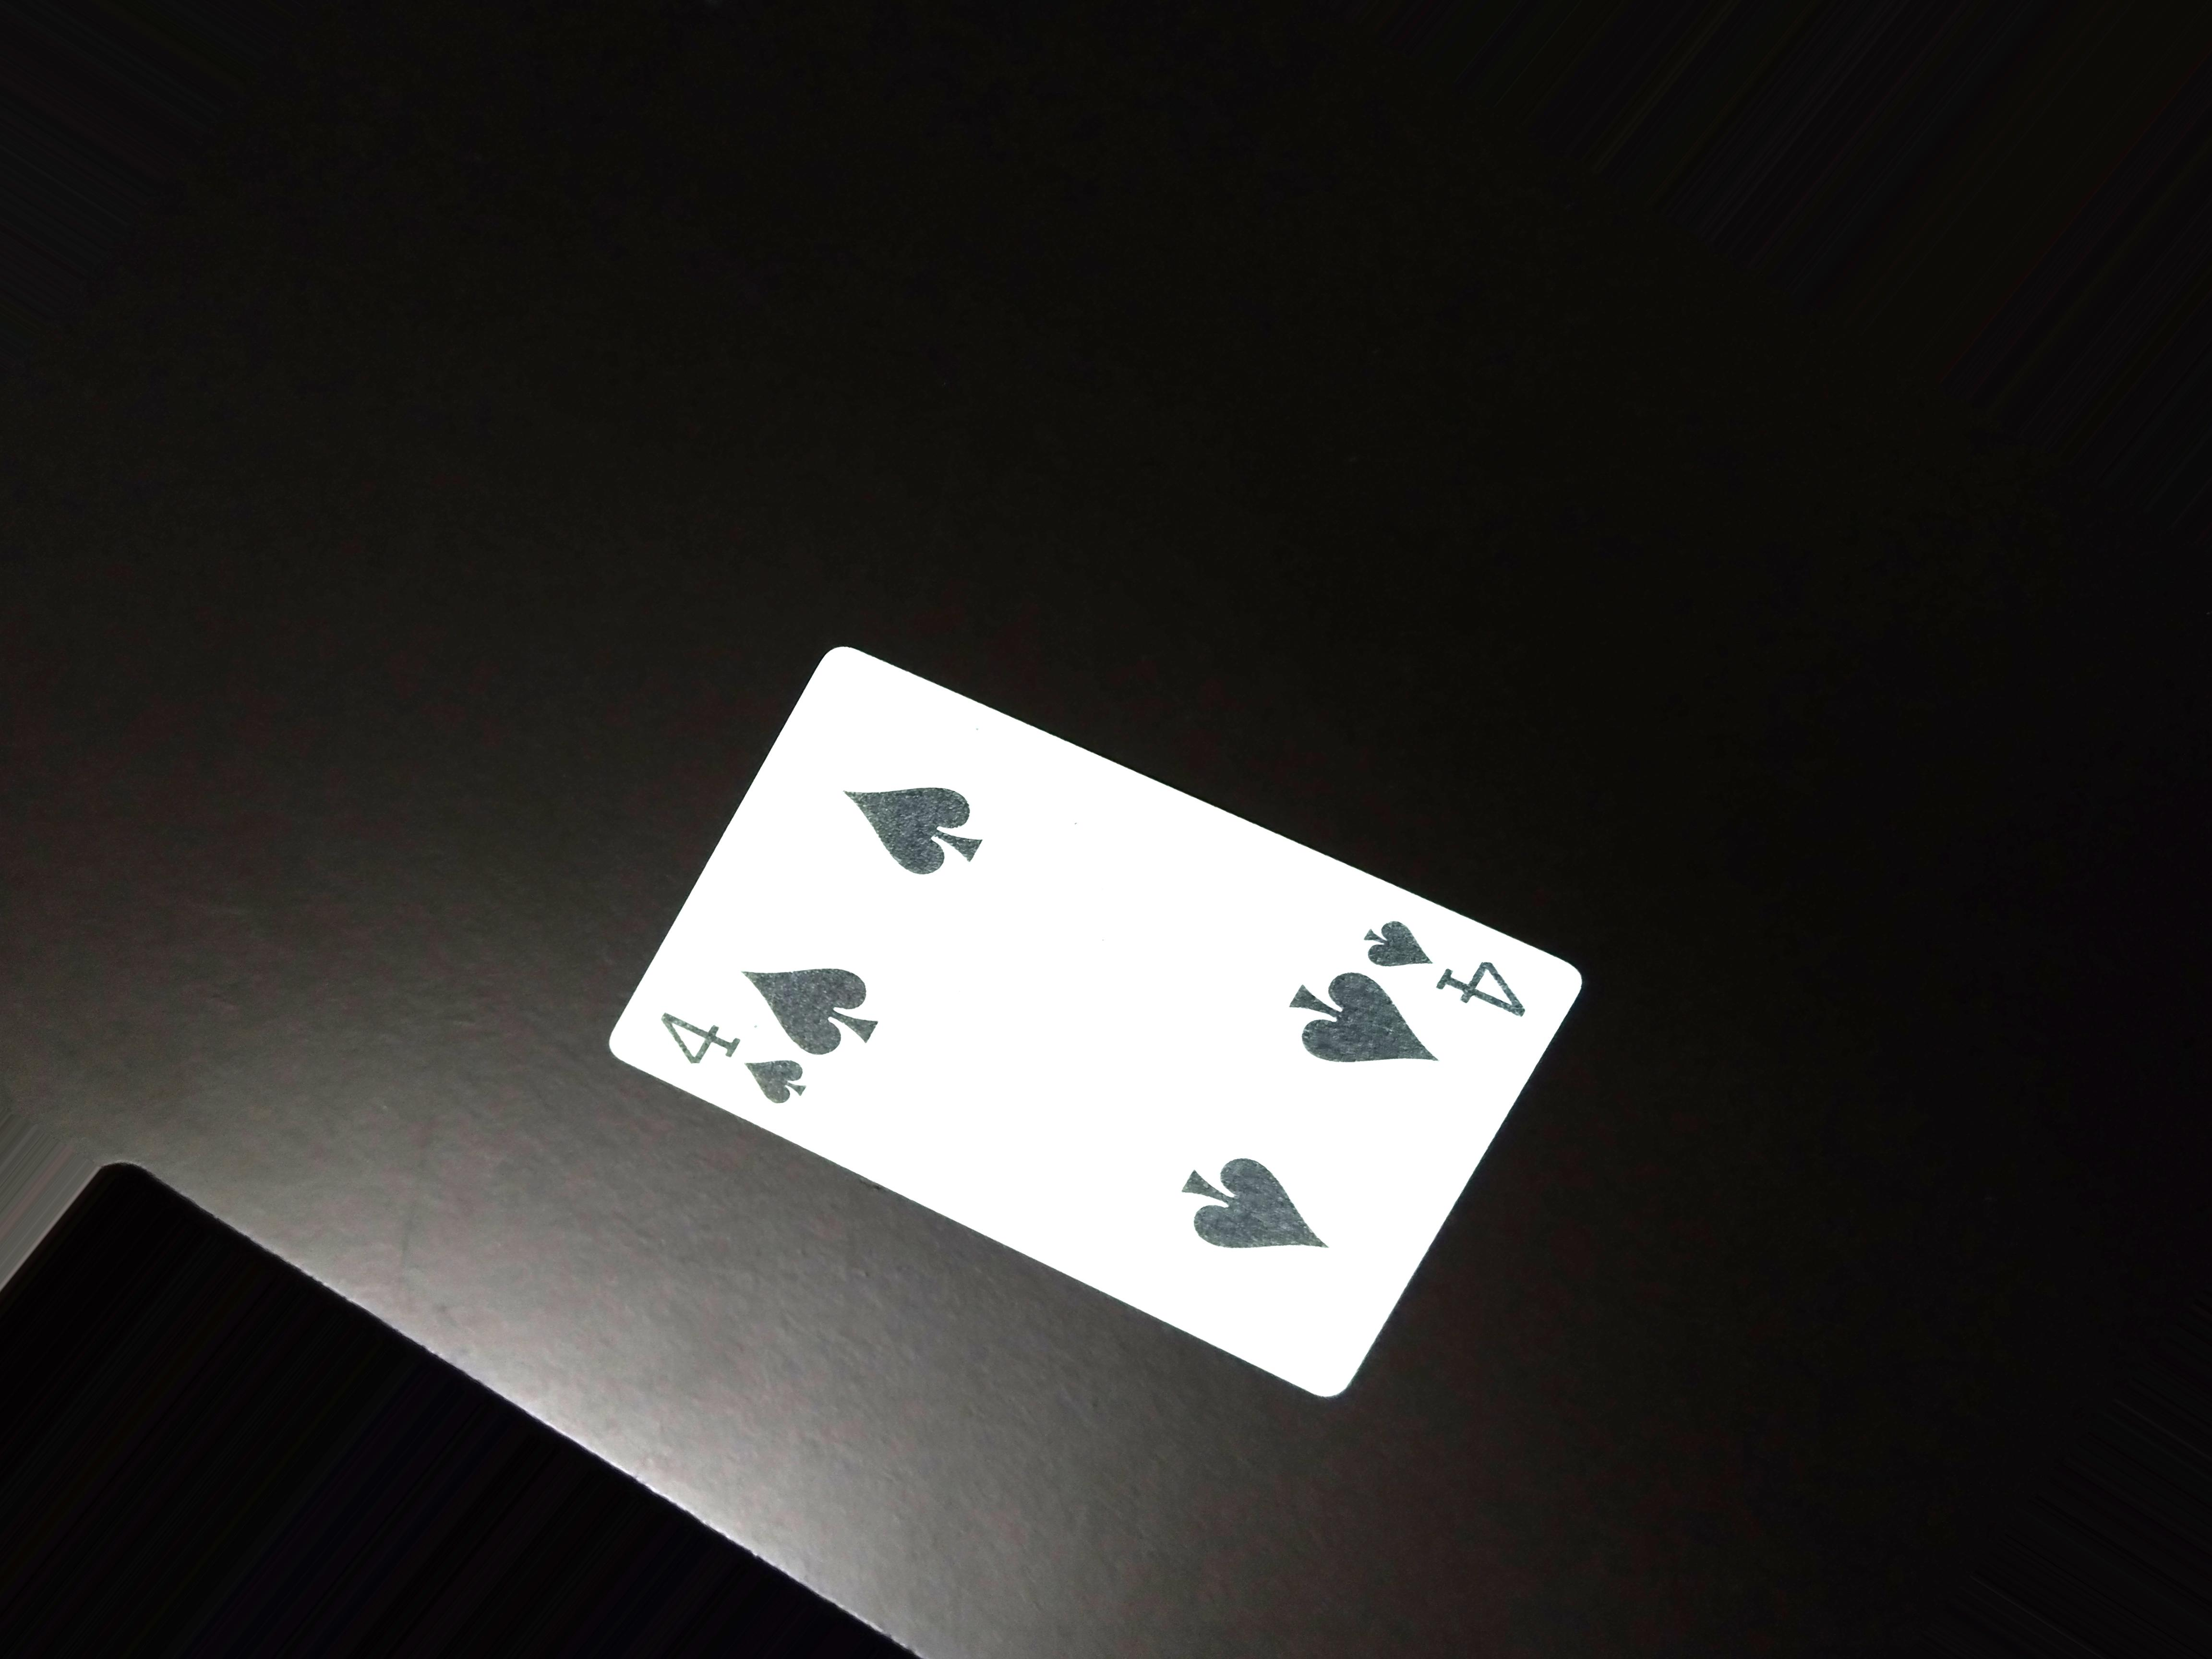4S: (646, 1000, 819, 1124)
